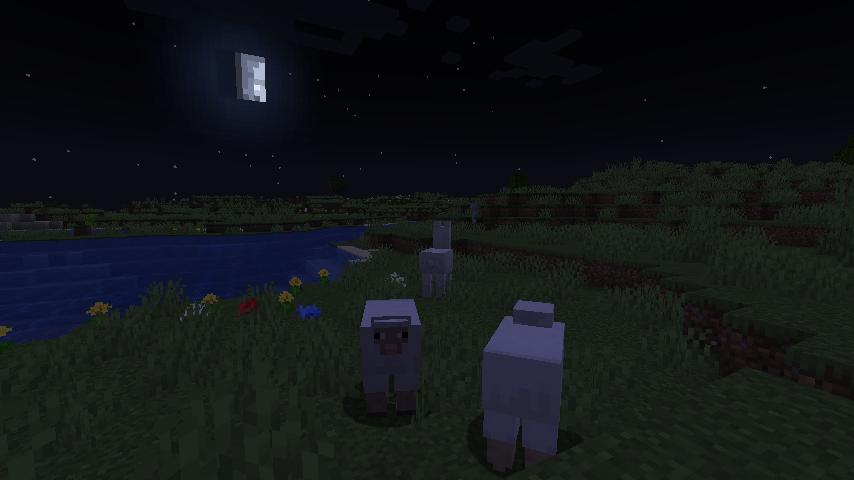llama: (421, 218, 459, 298)
sheep: (473, 297, 568, 479), (356, 295, 427, 414)
